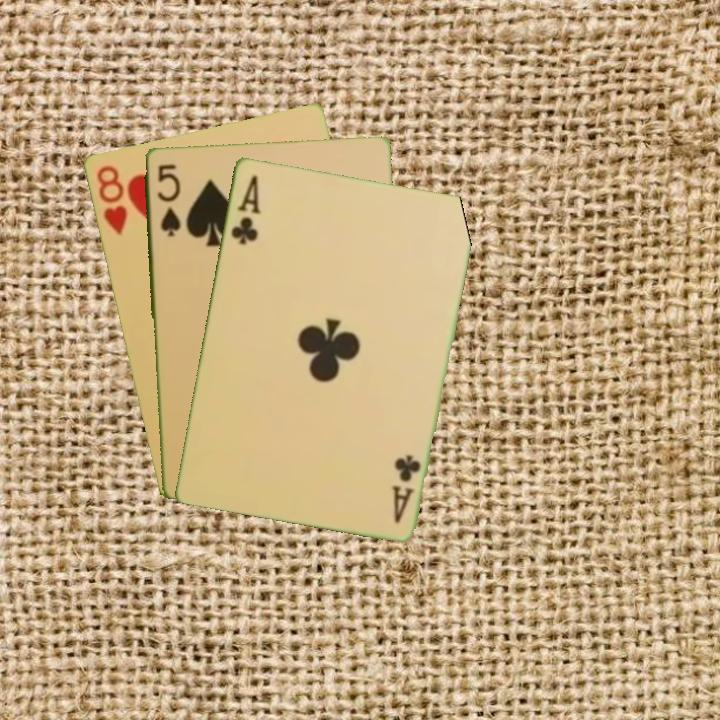5s: (153, 160, 183, 239)
8h: (92, 161, 130, 238)
Ac: (226, 170, 263, 247), (388, 450, 423, 526)
